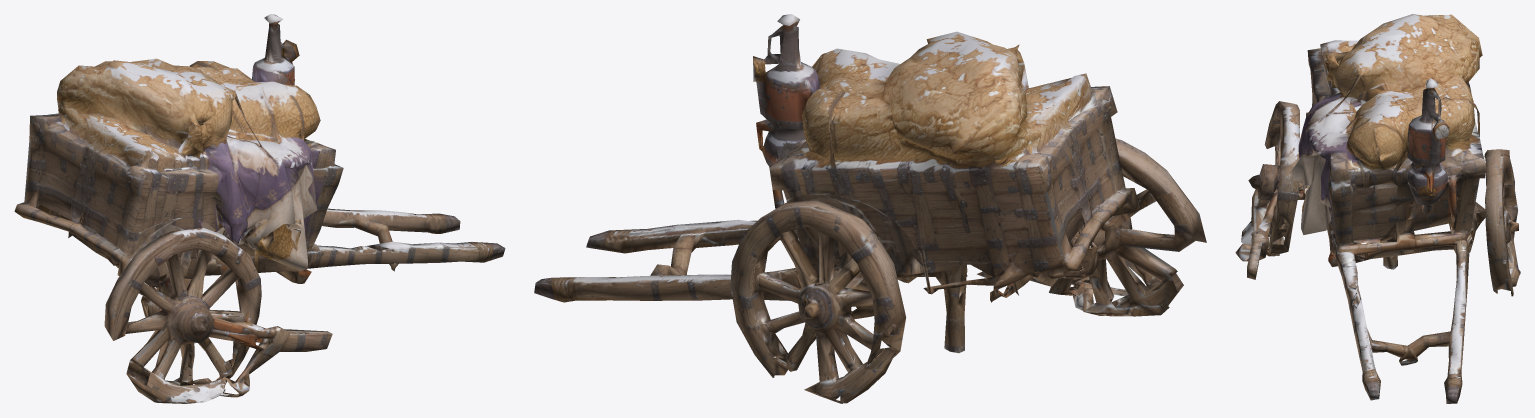
The model's file is PR_Cart_02.fbx.
The picture shows the model from 3 angles, left to right: view 1: azimuth 30°, elevation 25°; view 2: azimuth 150°, elevation 25°; view 3: azimuth 270°, elevation 25°; orthographic projection. The views are drawn at different scales.
Visible parts, largest first — view 1: texture_mapping; view 2: texture_mapping; view 3: texture_mapping.
Boxes of the visible parts, <box> form: texture_mapping: <box>14,14,505,403</box>; texture_mapping: <box>534,14,1206,403</box>; texture_mapping: <box>1235,14,1520,403</box>.
Bounding box in the file's own units: 0.9982 × 0.6146 × 0.5749.
1 material, 1 textured.
